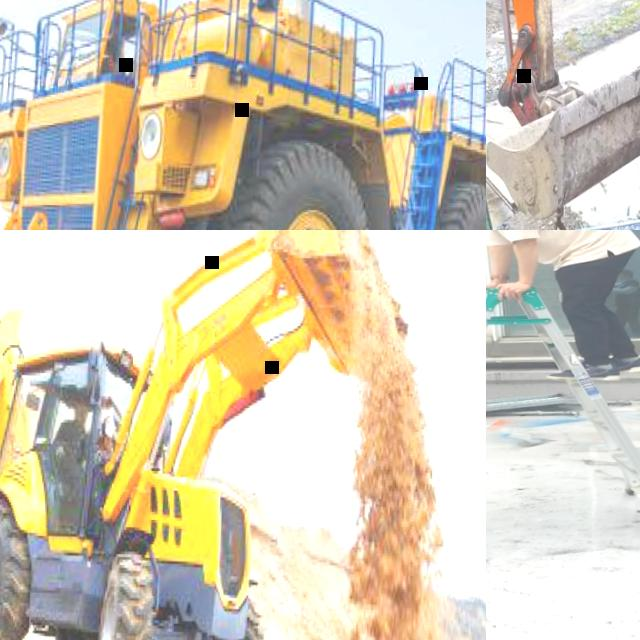NO-Hardhat: (73, 401, 90, 412)
NO-Mask: (73, 414, 87, 424)
NO-Safety Vest: (486, 230, 627, 267), (55, 421, 88, 461)
Person: (486, 230, 640, 384), (48, 398, 91, 528)
vehicle: (0, 230, 422, 640), (0, 0, 486, 230), (486, 0, 640, 230)
